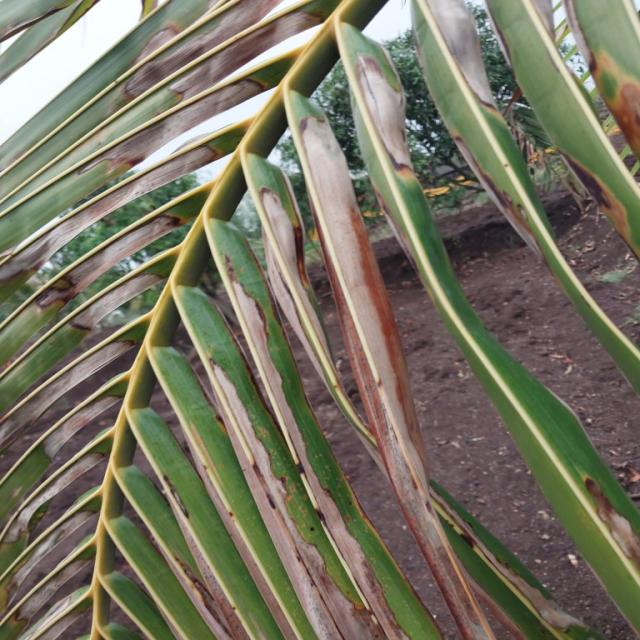gray leaf spot: (65, 0, 468, 639)
